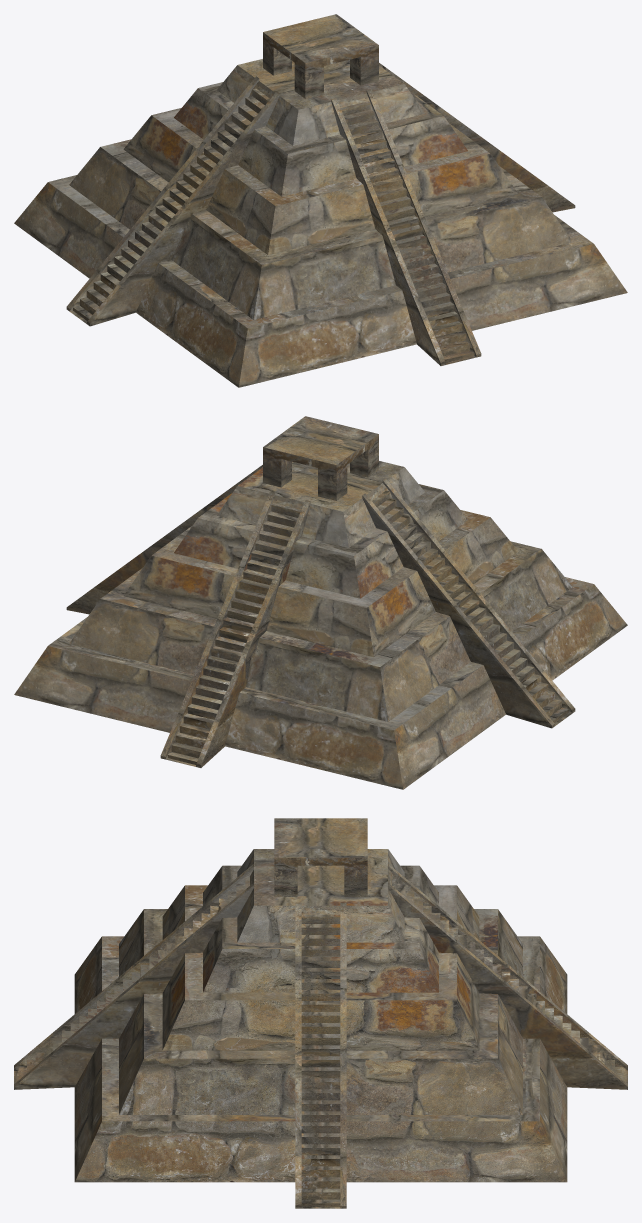
The model's file is piramide.fbx.
The picture shows the model from 3 angles, top to bottom: view 1: azimuth 30°, elevation 25°; view 2: azimuth 150°, elevation 25°; view 3: azimuth 270°, elevation 25°; orthographic projection. The views are drawn at different scales.
Visible parts, largest first — view 1: Aztec Pyramid; view 2: Aztec Pyramid; view 3: Aztec Pyramid.
Boxes of the visible parts, <box> form: Aztec Pyramid: <box>14,14,627,387</box>; Aztec Pyramid: <box>14,416,627,789</box>; Aztec Pyramid: <box>14,818,627,1208</box>.
Size of the model in its own units: 6204 by 2688 by 6204.
